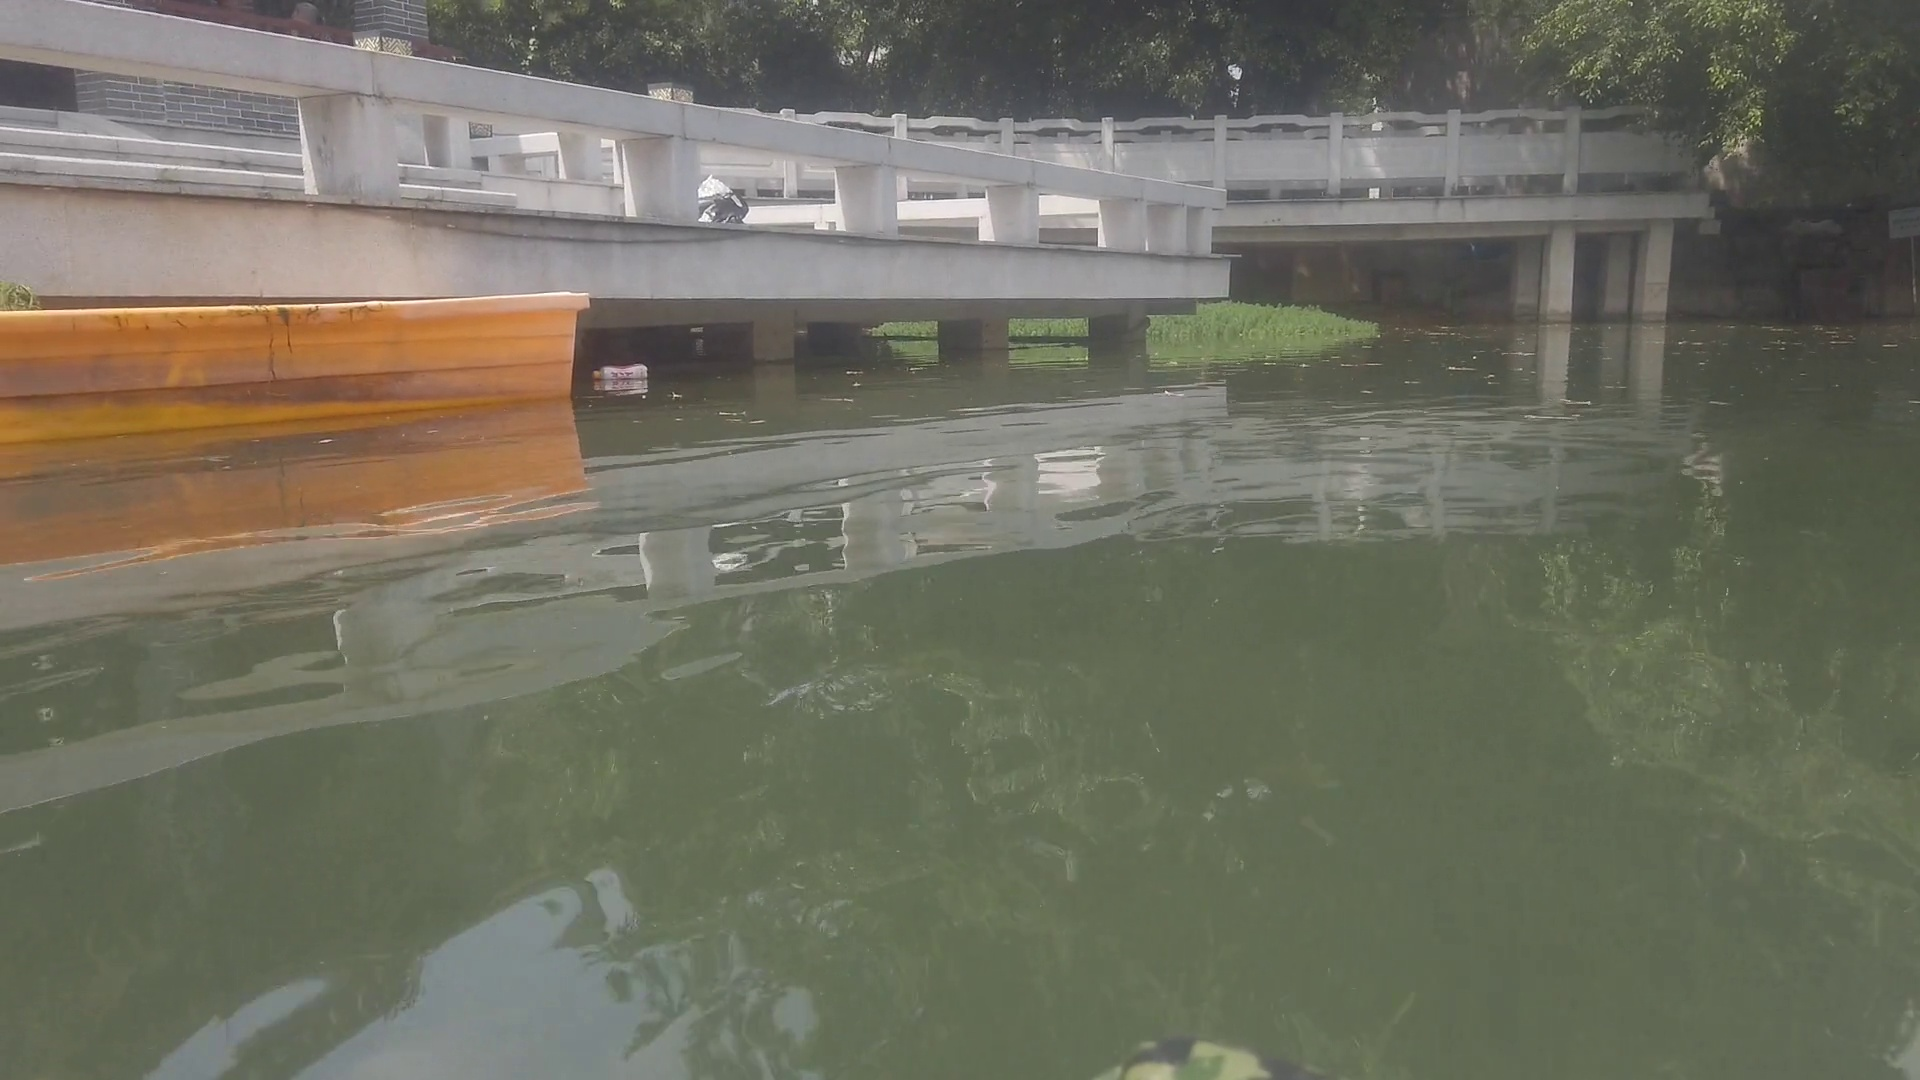bottle: (589, 364, 650, 382)
